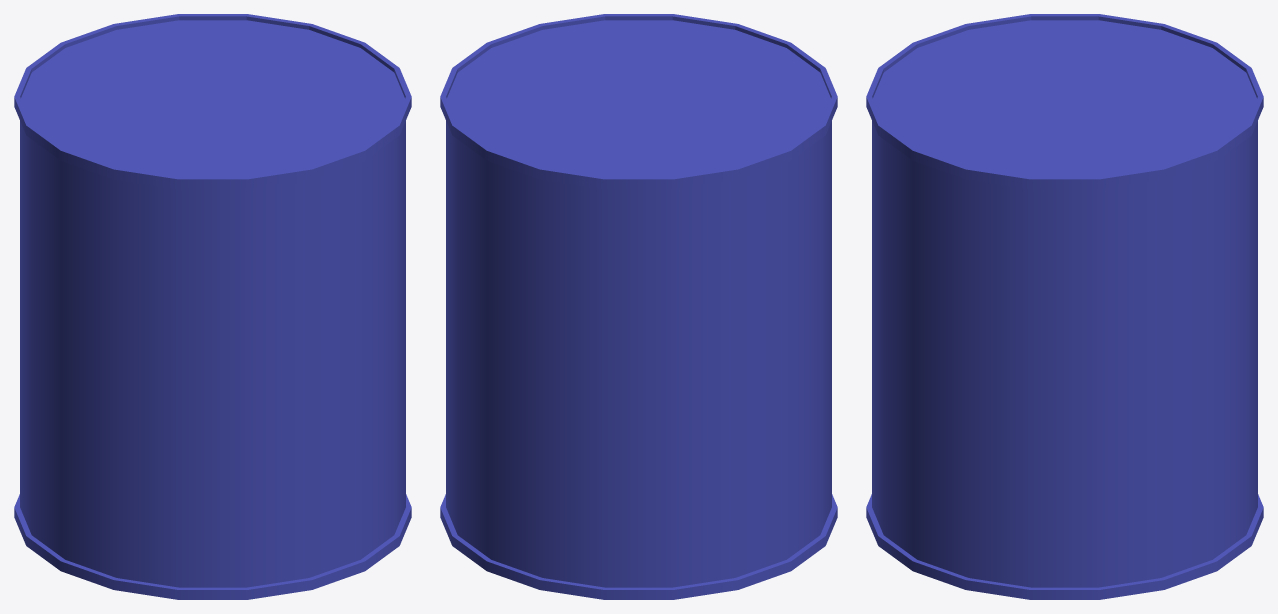
The model's file is conserve1.FBX.
3 renders of one model, left to right at view 1: azimuth 30°, elevation 25°; view 2: azimuth 150°, elevation 25°; view 3: azimuth 270°, elevation 25°, orthographic.
Parts seen in each view (by area): view 1: conserve1; view 2: conserve1; view 3: conserve1.
Boxes of the visible parts, x1,y1,x2,y2 form: conserve1: (14,14,411,599); conserve1: (440,14,837,599); conserve1: (866,14,1263,599).
Bounding box in the file's own units: 6.75 × 8 × 6.85.
